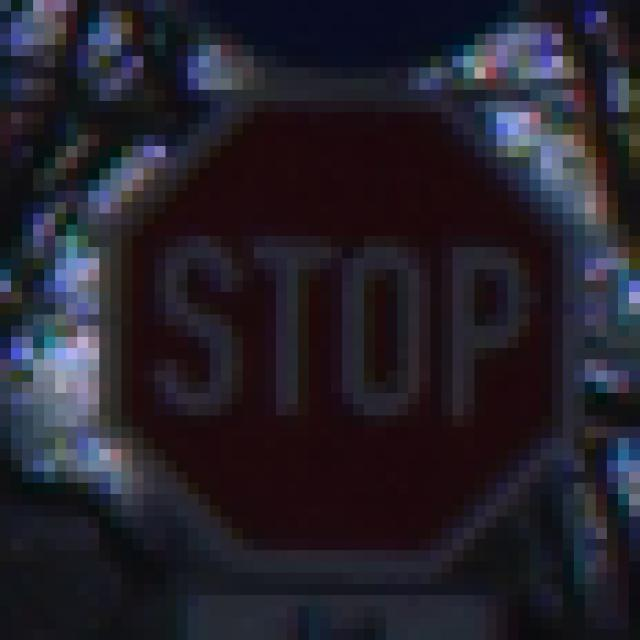STOP: (67, 57, 575, 585)
